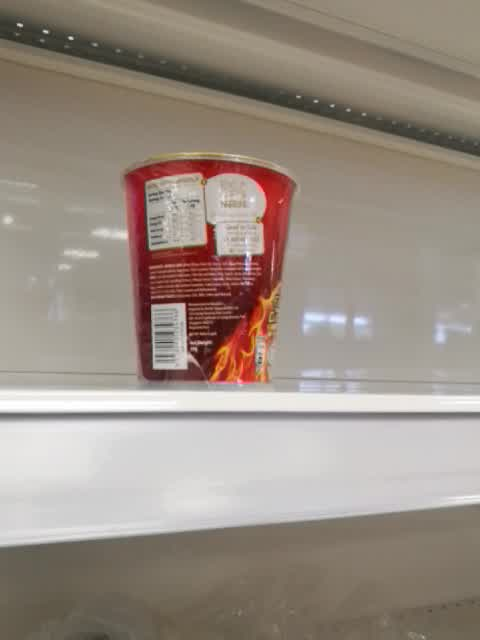maggi: (118, 151, 300, 386)
